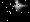person: (8, 1, 30, 16)
